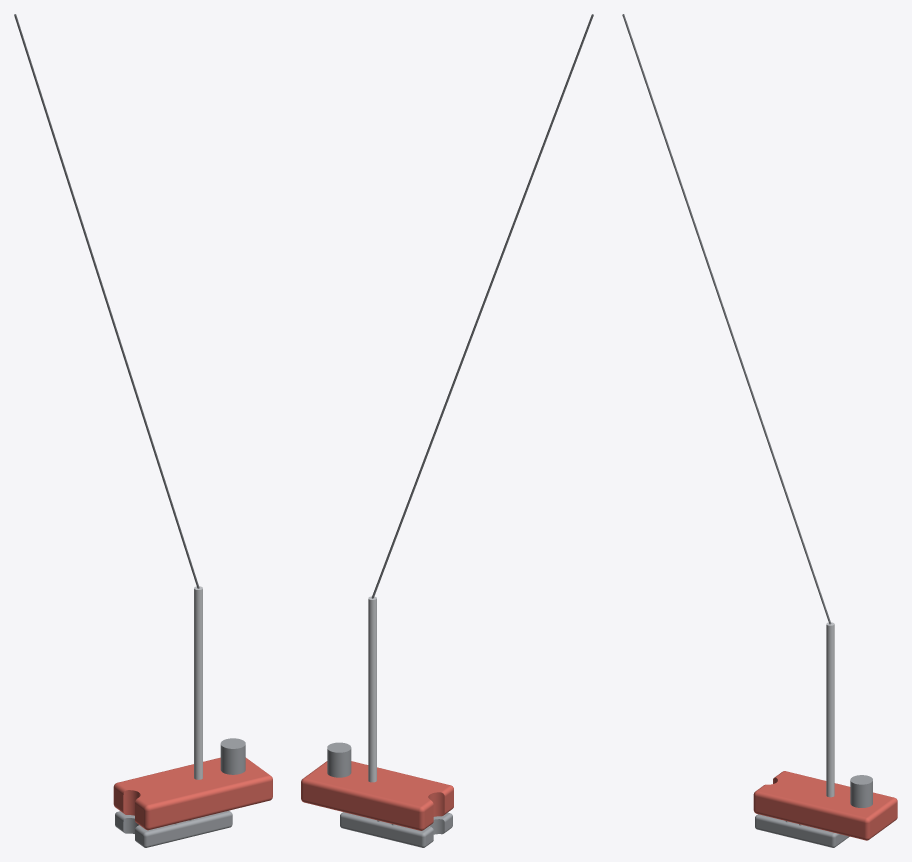
File: sk575_llave.glb
3 renders of one model, left to right at view 1: azimuth 30°, elevation 25°; view 2: azimuth 150°, elevation 25°; view 3: azimuth 330°, elevation 25°, orthographic. The views are drawn at different scales.
Parts seen in each view (by area): view 1: sk575_llave_rojo, sk575_llave_acero_oscuro, sk575_llave_acero, sk575_llave_cable; view 2: sk575_llave_rojo, sk575_llave_acero_oscuro, sk575_llave_cable, sk575_llave_acero; view 3: sk575_llave_rojo, sk575_llave_acero_oscuro, sk575_llave_cable, sk575_llave_acero.
Boxes of the visible parts, x1,y1,x2,y2 form: sk575_llave_rojo: (113, 757, 272, 830); sk575_llave_acero_oscuro: (115, 738, 245, 847); sk575_llave_acero: (175, 586, 202, 824); sk575_llave_cable: (14, 14, 199, 588); sk575_llave_rojo: (301, 761, 453, 830); sk575_llave_acero_oscuro: (327, 742, 452, 847); sk575_llave_cable: (371, 14, 593, 598); sk575_llave_acero: (368, 596, 395, 825); sk575_llave_rojo: (753, 771, 897, 840); sk575_llave_acero_oscuro: (755, 775, 872, 847); sk575_llave_cable: (622, 14, 831, 624); sk575_llave_acero: (785, 622, 834, 825).
Size of the model in its own units: 2.69 by 8.43 by 0.7099.
